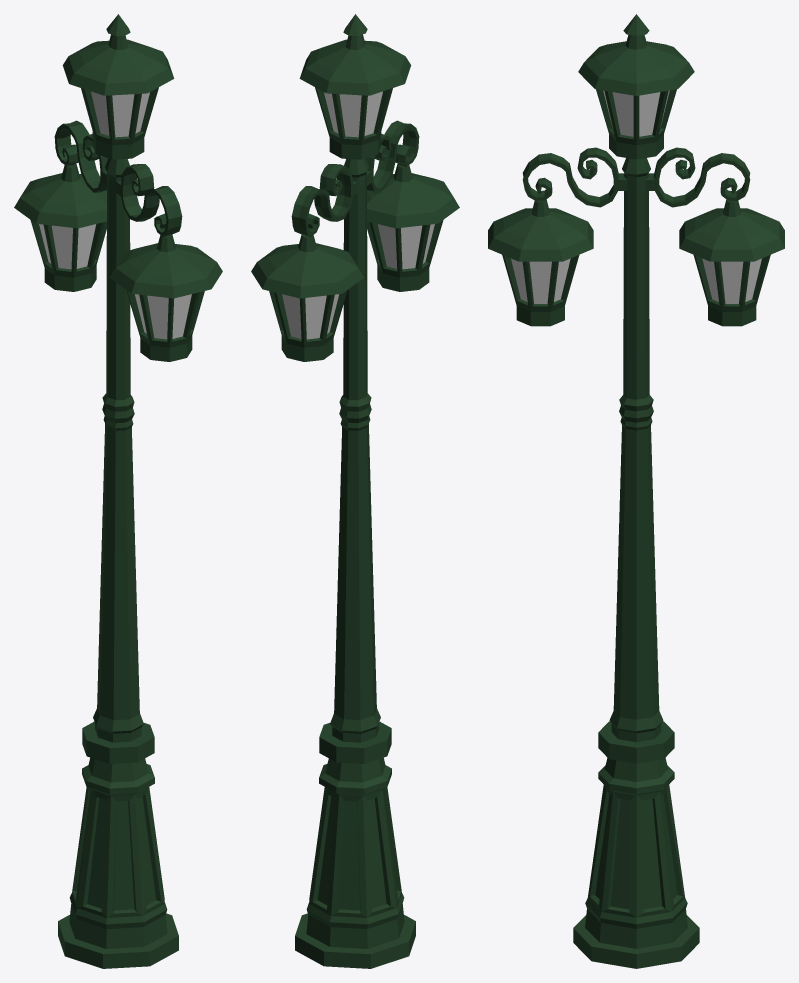
Rendered from Streetlight_Triple.glb.
3 views of the same model, side by side, from view 1: azimuth 30°, elevation 25°; view 2: azimuth 150°, elevation 25°; view 3: azimuth 270°, elevation 25° (orthographic).
Parts seen in each view (by area): view 1: Streetlight_Triple; view 2: Streetlight_Triple; view 3: Streetlight_Triple.
Part boxes in pixels (bbox=[...]): Streetlight_Triple: bbox=[14, 14, 222, 968]; Streetlight_Triple: bbox=[251, 14, 459, 968]; Streetlight_Triple: bbox=[488, 14, 784, 968].
Size of the model in its own units: 0.1317 by 1.09 by 0.3157.
